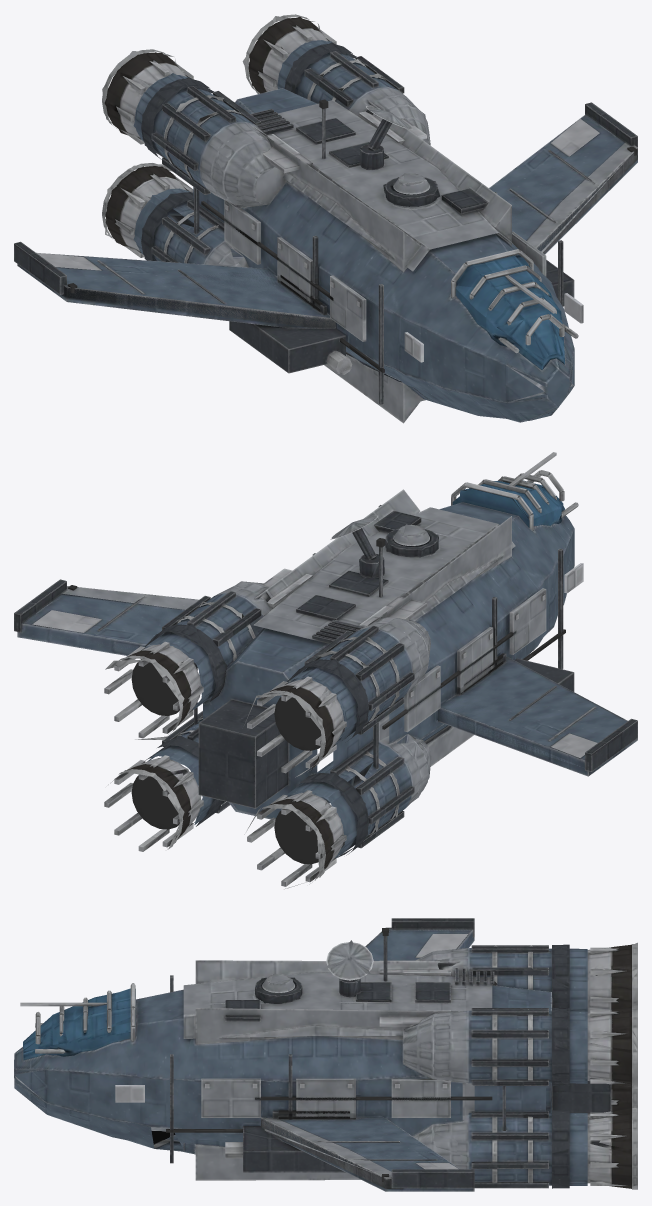
Rendered from sd_ship_kasif.glb.
The picture shows the model from 3 angles, top to bottom: view 1: azimuth 30°, elevation 25°; view 2: azimuth 150°, elevation 25°; view 3: azimuth 270°, elevation 25°; orthographic projection. The views are drawn at different scales.
Parts seen in each view (by area): view 1: LOD0_body, LOD1_body; view 2: LOD0_body, LOD1_body; view 3: LOD0_body, LOD1_body.
Boxes of the visible parts, x1,y1,x2,y2 form: LOD0_body: [14, 14, 637, 423]; LOD1_body: [38, 16, 637, 422]; LOD0_body: [14, 452, 637, 886]; LOD1_body: [33, 470, 637, 889]; LOD0_body: [14, 918, 637, 1191]; LOD1_body: [14, 934, 637, 1191].
Bounding box in the file's own units: 0.9638 × 0.3805 × 1.
1 material, 1 textured.
